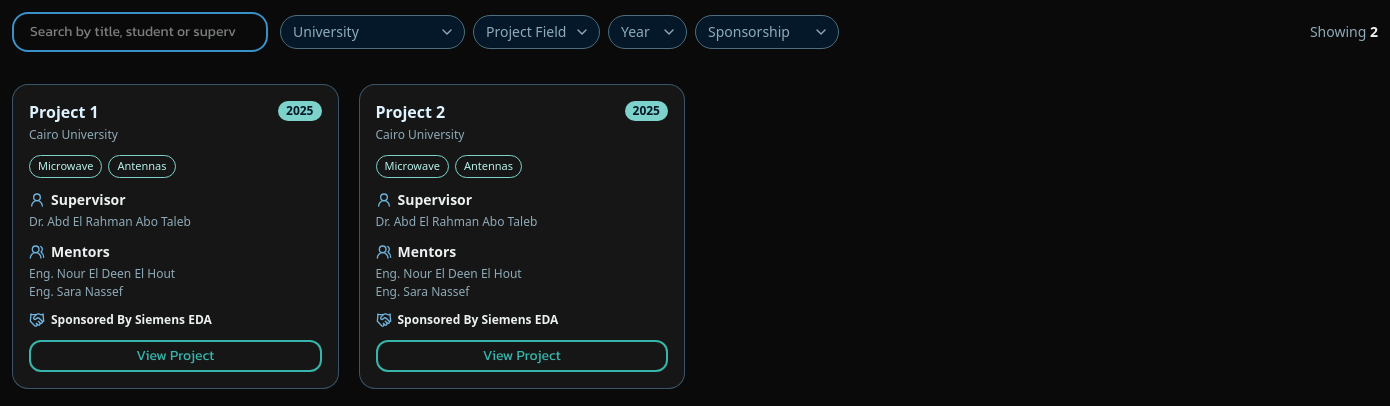
Test: ProjectsExplorer › keeps the current cards when a filter request fails, then shows the error
Select "2025" in the dropdown named "Year" at (648, 32), box [608, 15, 687, 49]
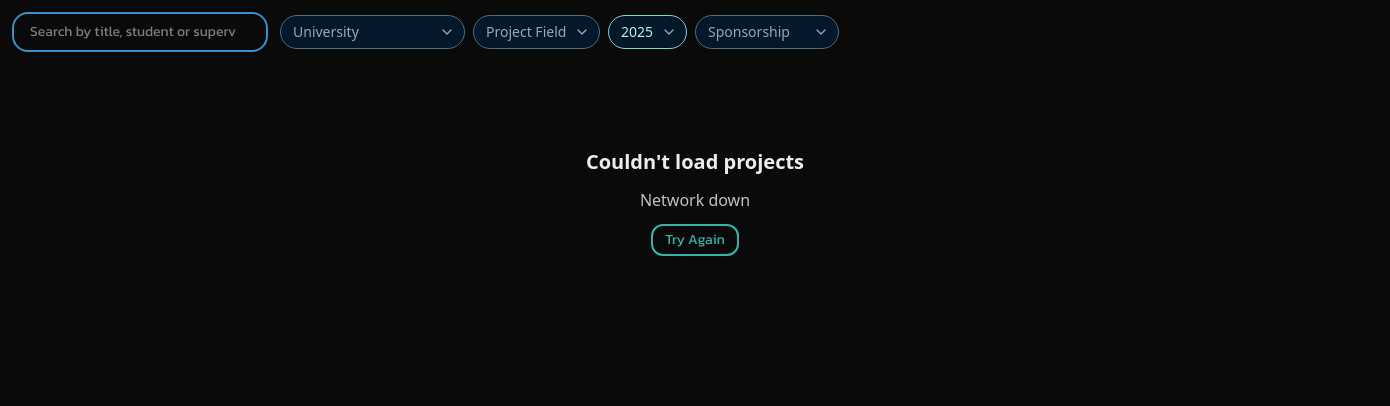
Expected: the text "Network down" is shown, [640, 188, 750, 212]
